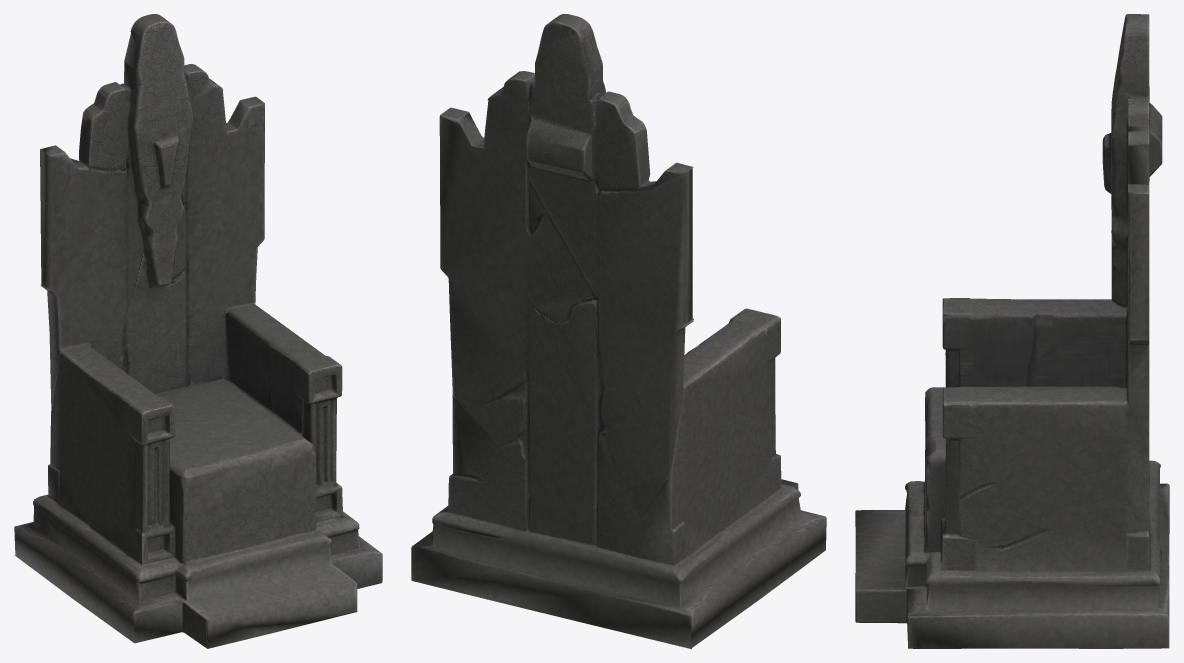
Rendered from prp_lm_ash_throne.glb.
3 views of the same model, side by side, from view 1: azimuth 30°, elevation 25°; view 2: azimuth 150°, elevation 25°; view 3: azimuth 270°, elevation 25° (orthographic). The views are drawn at different scales.
Parts seen in each view (by area): view 1: prp_lm_ash_throne; view 2: prp_lm_ash_throne; view 3: prp_lm_ash_throne.
Boxes of the visible parts, x1,y1,x2,y2 form: prp_lm_ash_throne: [14, 14, 382, 648]; prp_lm_ash_throne: [411, 14, 826, 648]; prp_lm_ash_throne: [855, 14, 1169, 648].
Bounding box in the file's own units: 4.54 × 9 × 4.53.
1 material, 1 textured.
